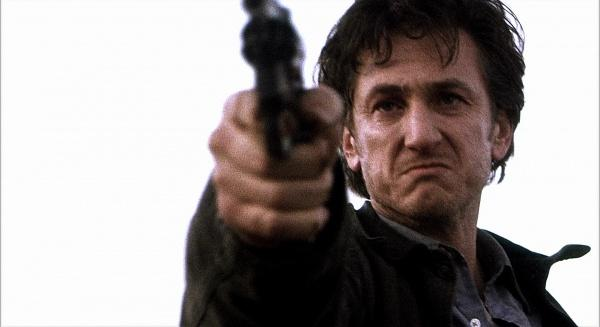Gun: (240, 0, 306, 158)
